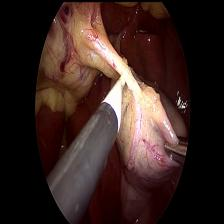Grasper: (159, 129, 187, 167)
Hook: (95, 68, 129, 130)
